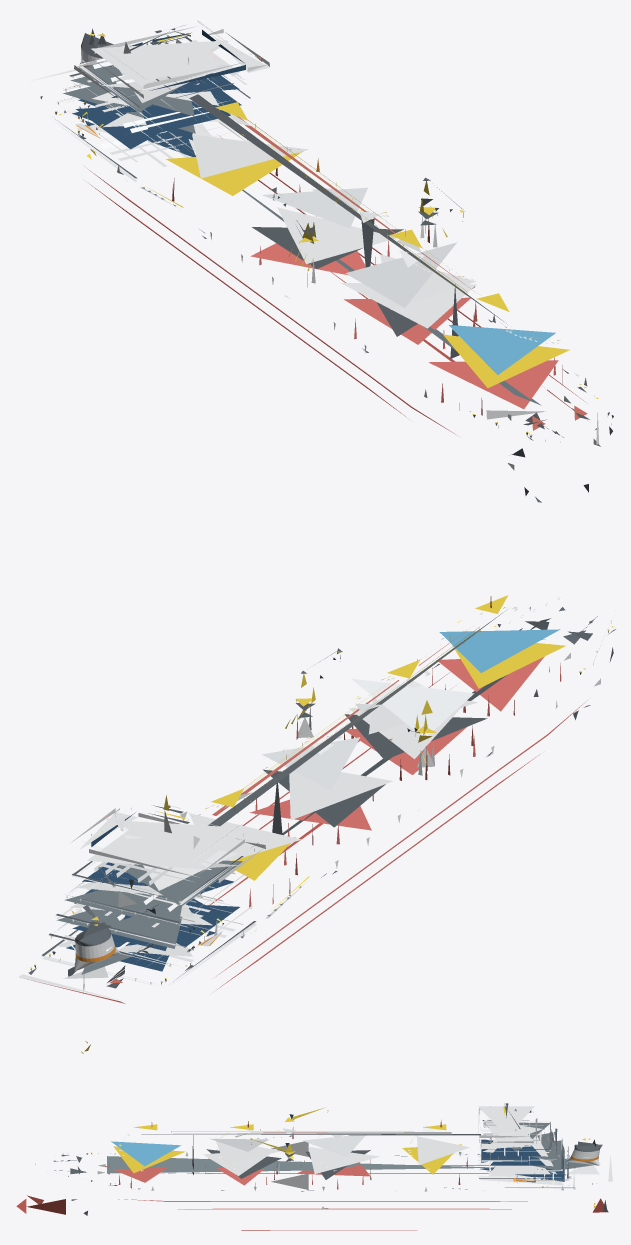
Rendered from ship_25.glb.
The picture shows the model from 3 angles, top to bottom: view 1: azimuth 30°, elevation 25°; view 2: azimuth 150°, elevation 25°; view 3: azimuth 270°, elevation 25°; orthographic projection. The views are drawn at different scales.
Visible parts, largest first — view 1: TrueHelm_Ship_25; view 2: TrueHelm_Ship_25; view 3: TrueHelm_Ship_25.
Part boxes in pixels (left/top/right/bottom): TrueHelm_Ship_25: left=31, top=20, right=613, bottom=502; TrueHelm_Ship_25: left=18, top=595, right=615, bottom=1053; TrueHelm_Ship_25: left=16, top=1103, right=612, bottom=1230.
Size of the model in its own units: 0.1449 by 0.196 by 0.9146.
